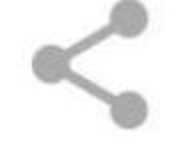ImgButton: (1, 1, 179, 153)
